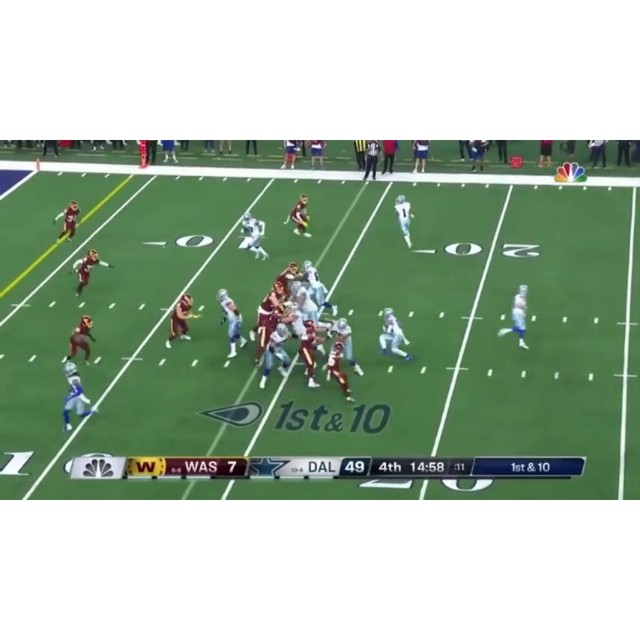american-football-player: (61, 362, 99, 432), (258, 323, 293, 389), (496, 285, 531, 350), (252, 301, 286, 365), (72, 248, 114, 298), (217, 288, 246, 358), (297, 320, 326, 389), (165, 294, 201, 349), (378, 307, 414, 362), (332, 317, 365, 376), (325, 341, 354, 401), (62, 315, 96, 366), (237, 212, 269, 261), (291, 281, 322, 322), (394, 194, 416, 249), (53, 200, 80, 244), (285, 193, 311, 237), (275, 262, 300, 296)
referee: (361, 140, 381, 182)
